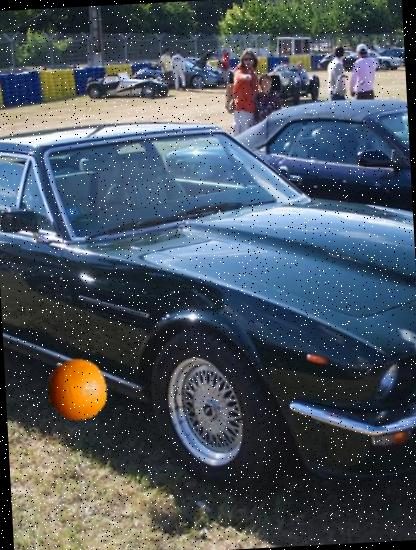Orange: (44, 356, 110, 422)
